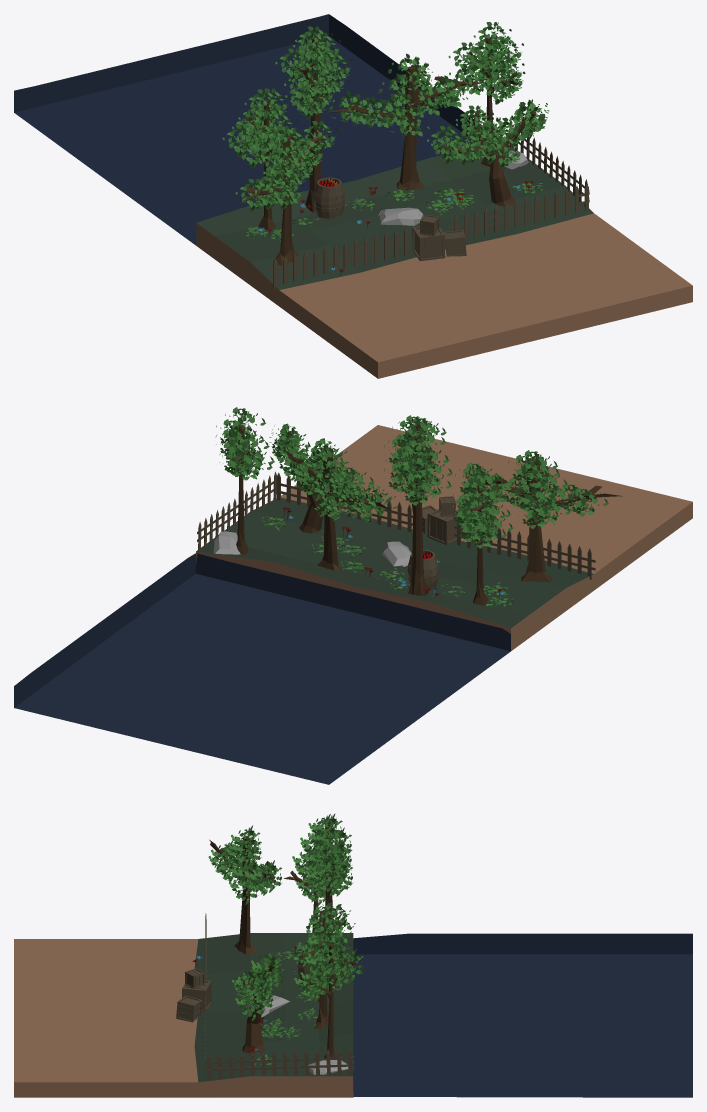
The model's file is CORREDOR DA BASE DOS CAÇADORES 2 100_ OFICIAL.fbx.
3 renders of one model, top to bottom at view 1: azimuth 30°, elevation 25°; view 2: azimuth 150°, elevation 25°; view 3: azimuth 270°, elevation 25°, orthographic. The views are drawn at different scales.
Visible parts, largest first — view 1: Base.007, rio.009, tronco 3.012, cerca.008, cerca.007, tronco.005, tronco 3.010, barril.002, cerca.009, tronco 5.004, Cube.001, pedra.012 (+2 smaller); view 2: rio.009, Base.007, tronco 3.010, tronco 3.012, tronco 5.004, cerca.009, cerca.008, Cube.001, cerca.007, tronco.005, tronco 3.013, tronco 3.011 (+3 smaller); view 3: rio.009, Base.007, cerca.009, tronco 3.010, suporte cerca.007, tronco.005, tronco 3.013, tronco 3.012, Cube.003, Cube.001.
Part boxes in pixels (box(x1,y1,x2,y2)): Base.007: box(196, 147, 692, 378); rio.009: box(14, 14, 498, 245); tronco 3.012: box(327, 66, 478, 190); cerca.008: box(273, 226, 408, 289); cerca.007: box(454, 183, 588, 240); tronco.005: box(438, 110, 535, 206); tronco 3.010: box(240, 134, 328, 266); barril.002: box(314, 177, 344, 218); cerca.009: box(509, 120, 587, 206); tronco 5.004: box(299, 36, 333, 212); Cube.001: box(412, 226, 445, 261); pedra.012: box(378, 207, 423, 225); rio.009: box(14, 553, 510, 784); Base.007: box(196, 425, 692, 650); tronco 3.010: box(465, 458, 622, 582); tronco 3.012: box(283, 447, 390, 570); tronco 5.004: box(399, 423, 432, 595); cerca.009: box(198, 471, 276, 551); cerca.008: box(457, 520, 591, 579); Cube.001: box(427, 509, 464, 544); cerca.007: box(276, 472, 411, 532); tronco.005: box(287, 431, 359, 533); tronco 3.013: box(231, 425, 249, 554); tronco 3.011: box(470, 475, 491, 605); rio.009: box(353, 933, 692, 1097); Base.007: box(14, 933, 353, 1097); cerca.009: box(207, 1048, 352, 1080); tronco 3.010: box(209, 835, 272, 954); suporte cerca.007: box(205, 1057, 353, 1071); tronco.005: box(242, 964, 274, 1053); tronco 3.013: box(299, 944, 357, 1057); tronco 3.012: box(302, 910, 345, 1028); Cube.003: box(176, 996, 202, 1022); Cube.001: box(182, 980, 211, 1012).
Size of the model in its own units: 1109 by 611 by 2002.
Materials: 77 (77 with a texture image).
